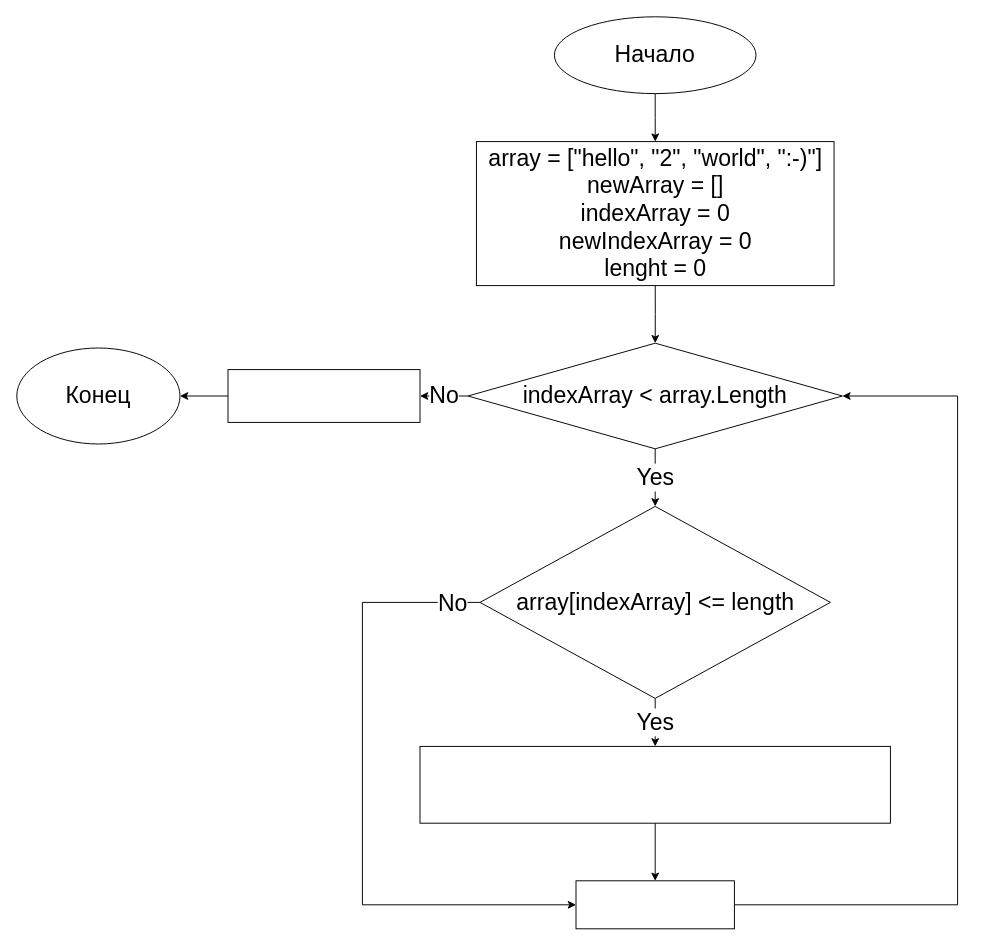
The diagram is 982 pixels wide and 946 high, and some of its shapes have lost their labels. The centre of each missing label's shape, as x and y in pixels:
"indexArray++" goes at (x=654, y=904).
"newArray[newIndexArray] = array[indexArray] newIndexArray++" goes at (x=654, y=784).
"Write(newArray)" goes at (x=323, y=395).
